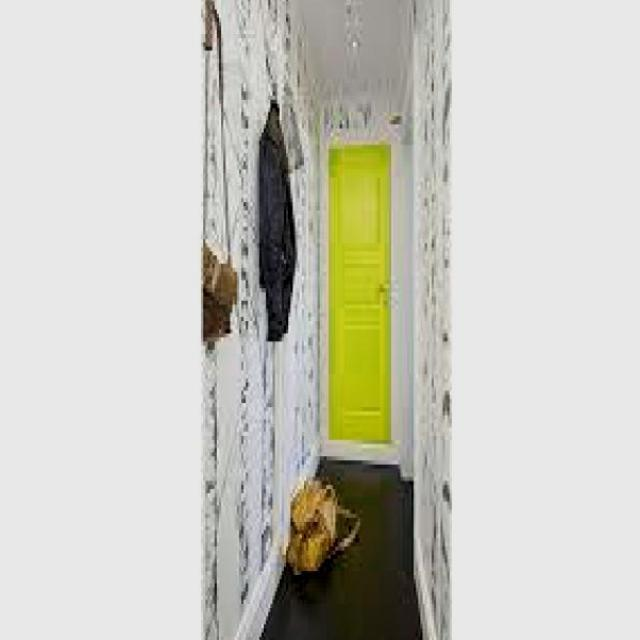door: (326, 142, 392, 443)
